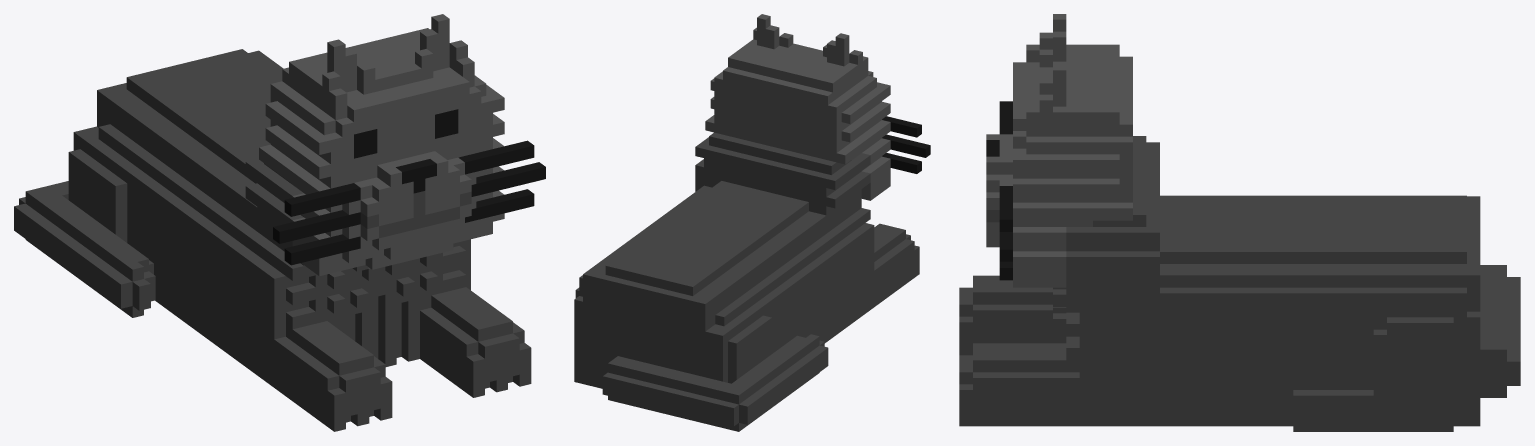
The model's file is apt-cat.obj.
3 renders of one model, left to right at view 1: azimuth 30°, elevation 25°; view 2: azimuth 150°, elevation 25°; view 3: azimuth 270°, elevation 25°, orthographic. The views are drawn at different scales.
Visible parts, largest first — view 1: apt-cat; view 2: apt-cat; view 3: apt-cat.
Boxes of the visible parts, x1,y1,x2,y2 form: apt-cat: (14,14,545,431); apt-cat: (574,14,930,431); apt-cat: (959,14,1520,431).
Size of the model in its own units: 24 by 28 by 42.
Materials: 1 (1 with a texture image).
